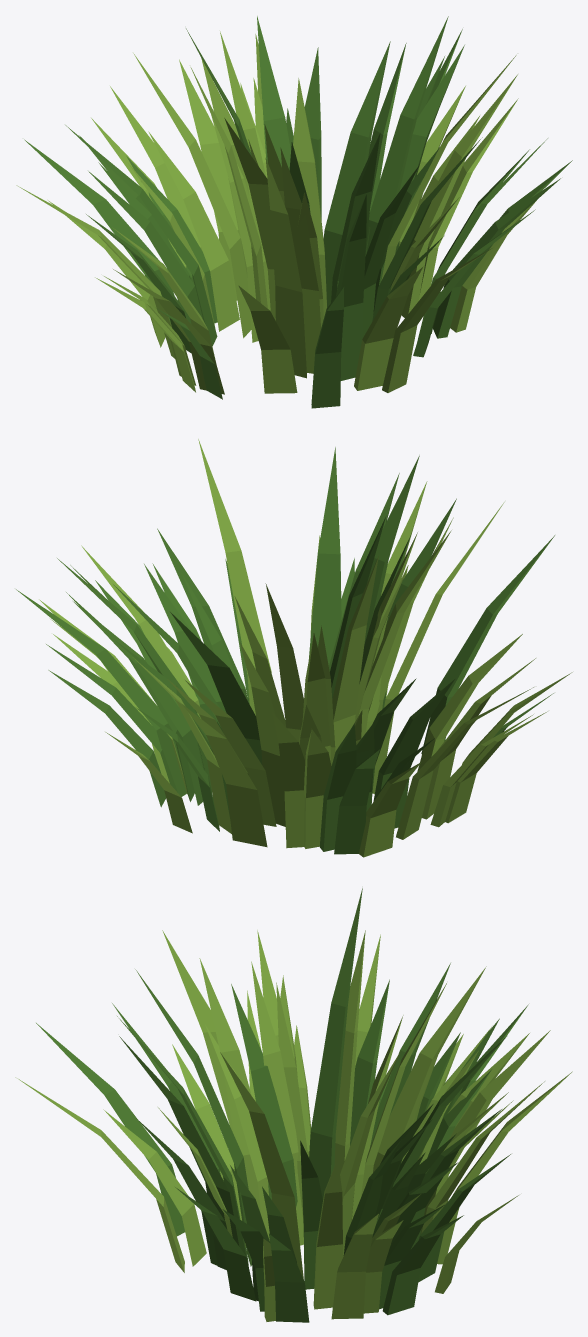
The model's file is GrassPatch.fbx.
3 renders of one model, top to bottom at view 1: azimuth 30°, elevation 25°; view 2: azimuth 150°, elevation 25°; view 3: azimuth 270°, elevation 25°, orthographic.
Parts seen in each view (by area): view 1: GrassPatch_Mesh; view 2: GrassPatch_Mesh; view 3: GrassPatch_Mesh.
Boxes of the visible parts, <box> form: GrassPatch_Mesh: <box>16,16,572,408</box>; GrassPatch_Mesh: <box>16,439,572,857</box>; GrassPatch_Mesh: <box>15,888,572,1322</box>.
Bounding box in the file's own units: 1 × 0.6173 × 0.9696.
